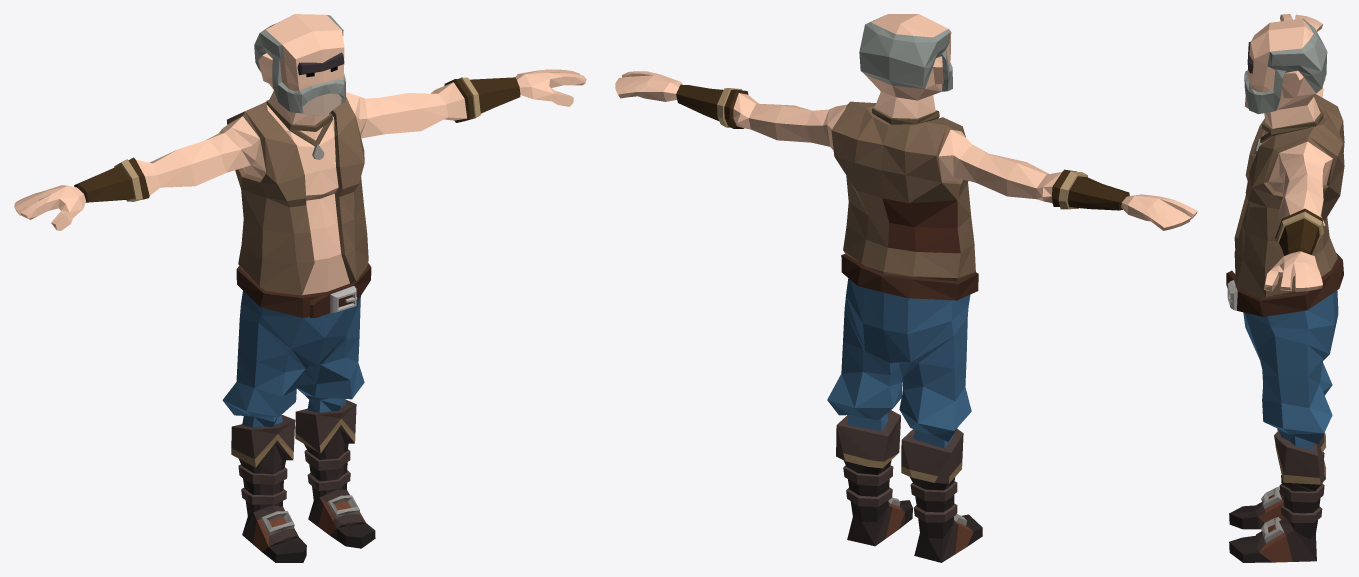
Rendered from transportista.fbx.
The picture shows the model from 3 angles, left to right: view 1: azimuth 30°, elevation 25°; view 2: azimuth 150°, elevation 25°; view 3: azimuth 270°, elevation 25°; orthographic projection. The views are drawn at different scales.
Visible parts, largest first — view 1: Character_Pirate_First_Mate_01; view 2: Character_Pirate_First_Mate_01; view 3: Character_Pirate_First_Mate_01.
Boxes of the visible parts, bbox=[...] form: Character_Pirate_First_Mate_01: bbox=[14, 14, 586, 562]; Character_Pirate_First_Mate_01: bbox=[615, 14, 1197, 562]; Character_Pirate_First_Mate_01: bbox=[1226, 14, 1344, 562].
Bounding box in the file's own units: 80.61 × 14.71 × 70.4.
Materials: 1 (1 with a texture image).
